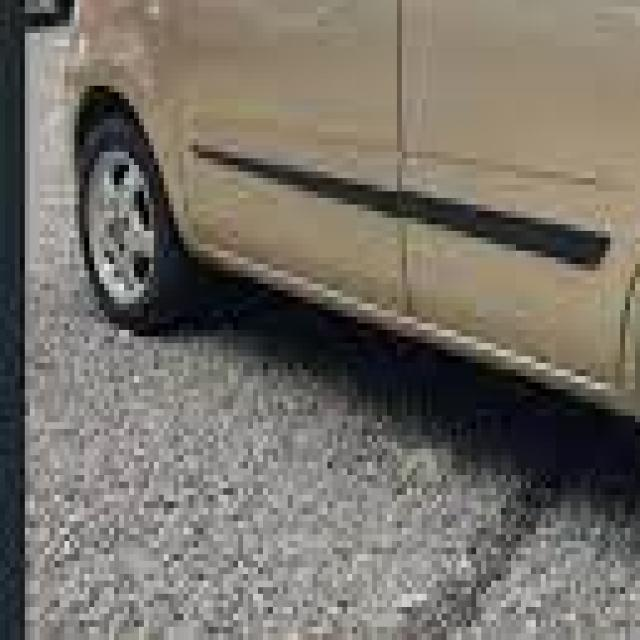car: (59, 0, 640, 448)
